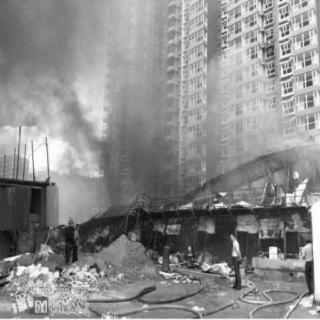Smoke: (6, 7, 83, 81), (126, 114, 166, 194)
